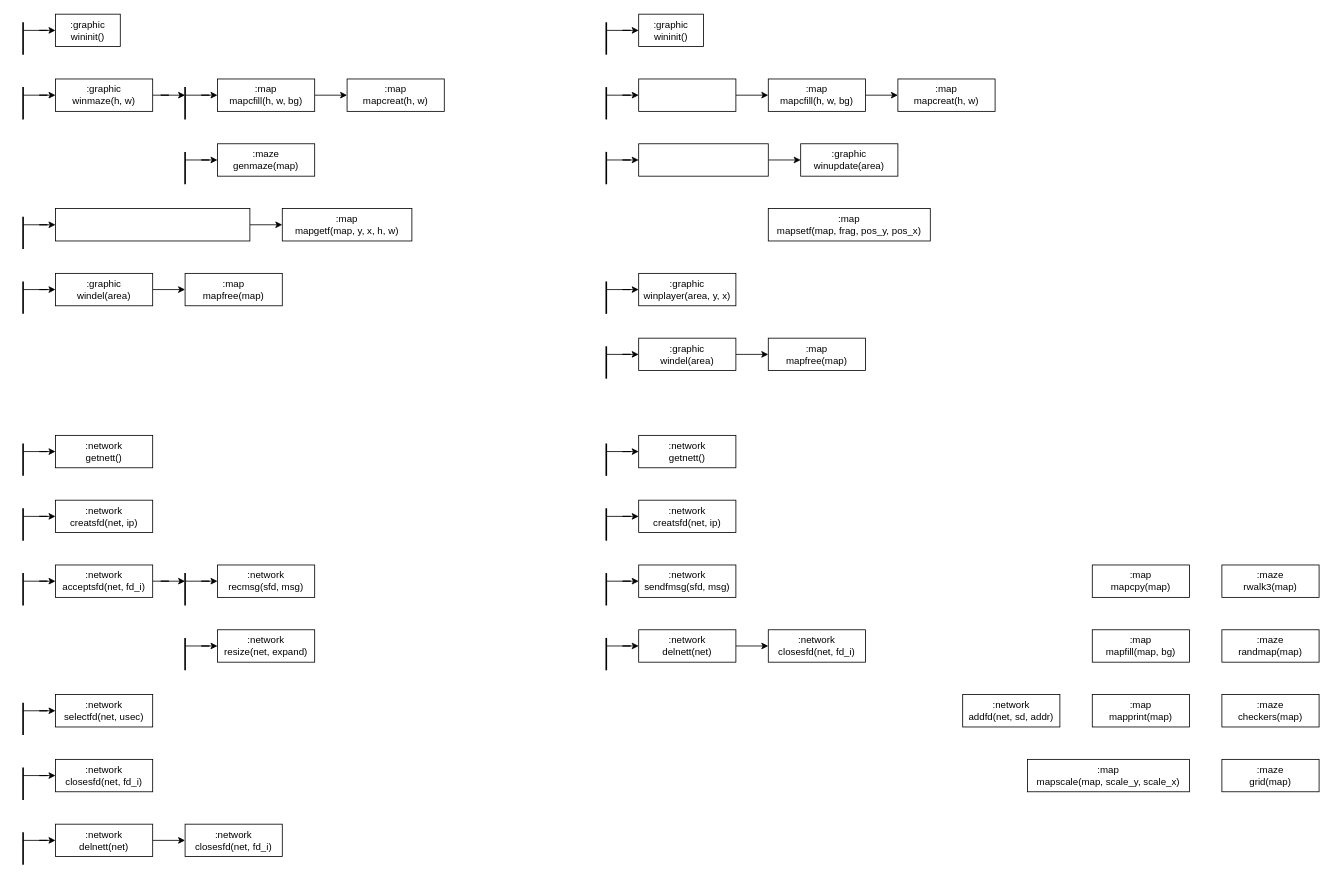
The diagram is 1333 pixels wide and 880 high, and some of its shapes have lost their labels. Here are the shapes that lost their labels. From the top down, the centre of each, then its label:
the point at 687,94: :graphic winget(h, w)
the point at 703,159: :graphic winmov(area, dir, map)
the point at 152,224: :graphic wingetfrag(dir, map, pos_y, pos_x, h, w)
